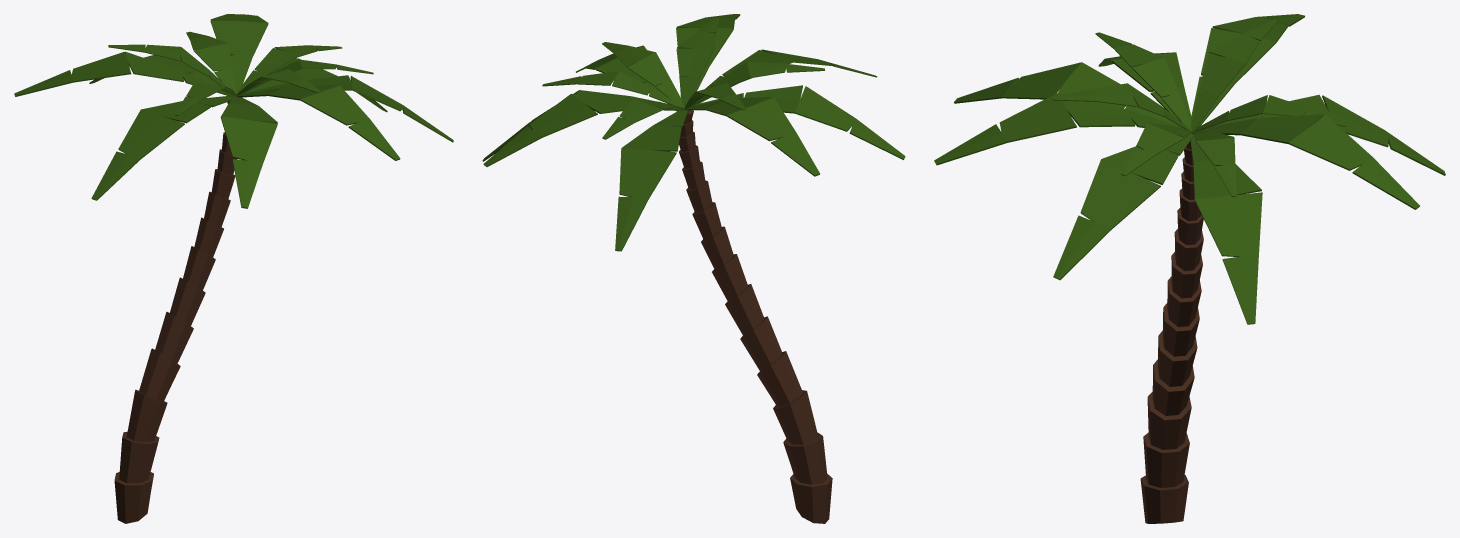
Rendered from paml1.fbx.
The picture shows the model from 3 angles, left to right: view 1: azimuth 30°, elevation 25°; view 2: azimuth 150°, elevation 25°; view 3: azimuth 270°, elevation 25°; orthographic projection. The views are drawn at different scales.
Visible parts, largest first — view 1: Palm_Base, Palm_Sheet_7, Palm_Sheet_6, Palm_Sheet_5, Palm_Sheet_8, Palm_Sheet_2, Palm_Sheet_4, Palm_Sheet_10, Palm_Sheet_9, Palm_Sheet_11, Palm_Sheet_12, Palm_Sheet_13 (+3 smaller); view 2: Palm_Base, Palm_Sheet_1, Palm_Sheet_8, Palm_Sheet_7, Palm_Sheet_2, Palm_Sheet_14, Palm_Sheet_13, Palm_Sheet_9, Palm_Sheet_5, Palm_Sheet_12, Palm_Sheet_6, Palm_Sheet_10 (+3 smaller); view 3: Palm_Base, Palm_Sheet_3, Palm_Sheet_4, Palm_Sheet_2, Palm_Sheet_5, Palm_Sheet_6, Palm_Sheet_11, Palm_Sheet_1, Palm_Sheet_8, Palm_Sheet_12, Palm_Sheet_14, Palm_Sheet_10 (+3 smaller).
Boxes of the visible parts, x1=… form: Palm_Base: x1=114, y1=97, x2=242, y2=523; Palm_Sheet_7: x1=91, y1=96, x2=232, y2=200; Palm_Sheet_6: x1=220, y1=96, x2=277, y2=208; Palm_Sheet_5: x1=236, y1=84, x2=400, y2=160; Palm_Sheet_8: x1=14, y1=51, x2=232, y2=96; Palm_Sheet_2: x1=210, y1=14, x2=268, y2=92; Palm_Sheet_4: x1=242, y1=75, x2=453, y2=142; Palm_Sheet_10: x1=186, y1=31, x2=236, y2=94; Palm_Sheet_9: x1=237, y1=45, x2=342, y2=93; Palm_Sheet_11: x1=108, y1=44, x2=226, y2=86; Palm_Sheet_12: x1=175, y1=82, x2=237, y2=115; Palm_Sheet_13: x1=238, y1=59, x2=373, y2=95; Palm_Base: x1=676, y1=110, x2=832, y2=523; Palm_Sheet_1: x1=615, y1=110, x2=688, y2=251; Palm_Sheet_8: x1=685, y1=97, x2=819, y2=176; Palm_Sheet_7: x1=688, y1=85, x2=905, y2=159; Palm_Sheet_2: x1=483, y1=94, x2=684, y2=166; Palm_Sheet_14: x1=676, y1=18, x2=719, y2=106; Palm_Sheet_13: x1=602, y1=42, x2=684, y2=107; Palm_Sheet_9: x1=542, y1=71, x2=683, y2=107; Palm_Sheet_5: x1=676, y1=14, x2=740, y2=98; Palm_Sheet_12: x1=689, y1=62, x2=824, y2=107; Palm_Sheet_6: x1=692, y1=49, x2=877, y2=106; Palm_Sheet_10: x1=602, y1=98, x2=685, y2=139; Palm_Base: x1=1140, y1=141, x2=1203, y2=523; Palm_Sheet_3: x1=1190, y1=136, x2=1262, y2=324; Palm_Sheet_4: x1=1053, y1=133, x2=1193, y2=280; Palm_Sheet_2: x1=1197, y1=114, x2=1419, y2=209; Palm_Sheet_5: x1=934, y1=93, x2=1183, y2=165; Palm_Sheet_6: x1=954, y1=62, x2=1178, y2=125; Palm_Sheet_11: x1=1191, y1=19, x2=1277, y2=130; Palm_Sheet_1: x1=1214, y1=94, x2=1445, y2=175; Palm_Sheet_8: x1=1190, y1=14, x2=1304, y2=127; Palm_Sheet_12: x1=1095, y1=32, x2=1191, y2=130; Palm_Sheet_14: x1=1052, y1=83, x2=1191, y2=131; Palm_Sheet_10: x1=1193, y1=95, x2=1346, y2=131.
Bounding box in the file's own units: 493 × 575 × 512.
